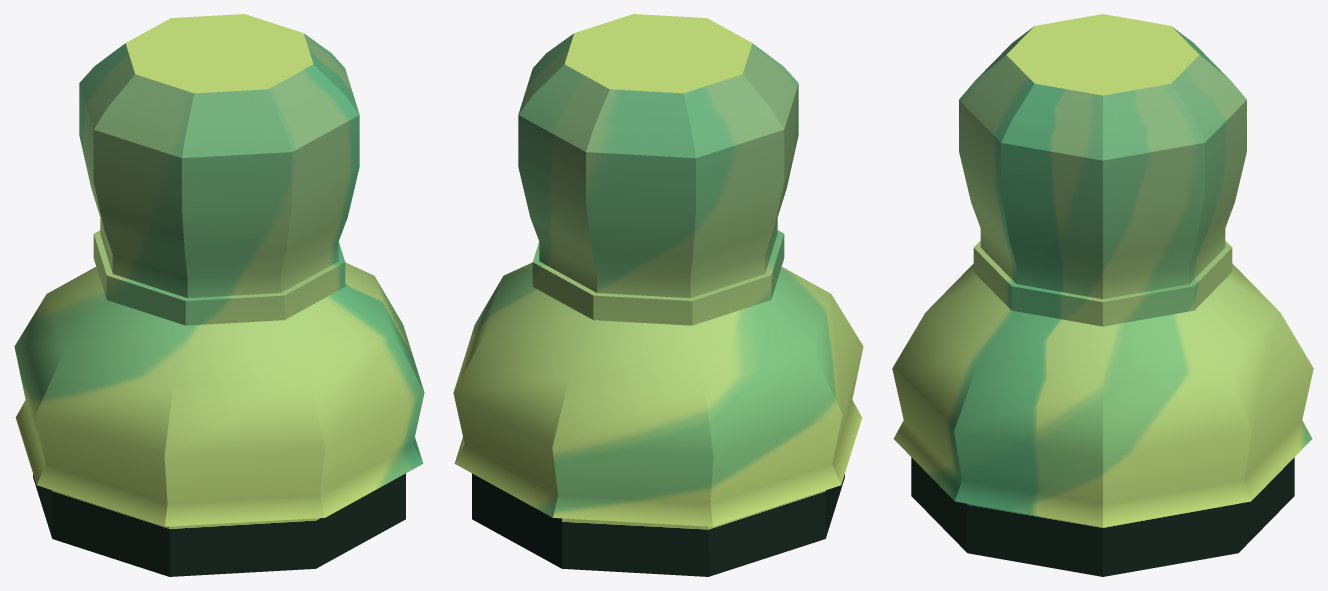
Rendered from coffeegrinder.fbx.
3 views of the same model, side by side, from view 1: azimuth 30°, elevation 25°; view 2: azimuth 150°, elevation 25°; view 3: azimuth 270°, elevation 25° (orthographic).
Visible parts, largest first — view 1: pCylinder1; view 2: pCylinder1; view 3: pCylinder1.
Boxes of the visible parts, x1,y1,x2,y2 form: pCylinder1: [14, 14, 424, 576]; pCylinder1: [453, 14, 863, 576]; pCylinder1: [892, 14, 1313, 576].
Size of the model in its own units: 5.24 by 6.05 by 5.24.
